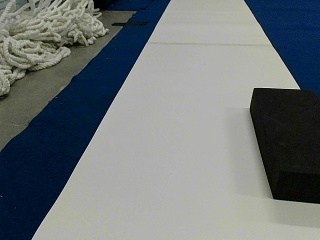block: (249, 87, 319, 204)
